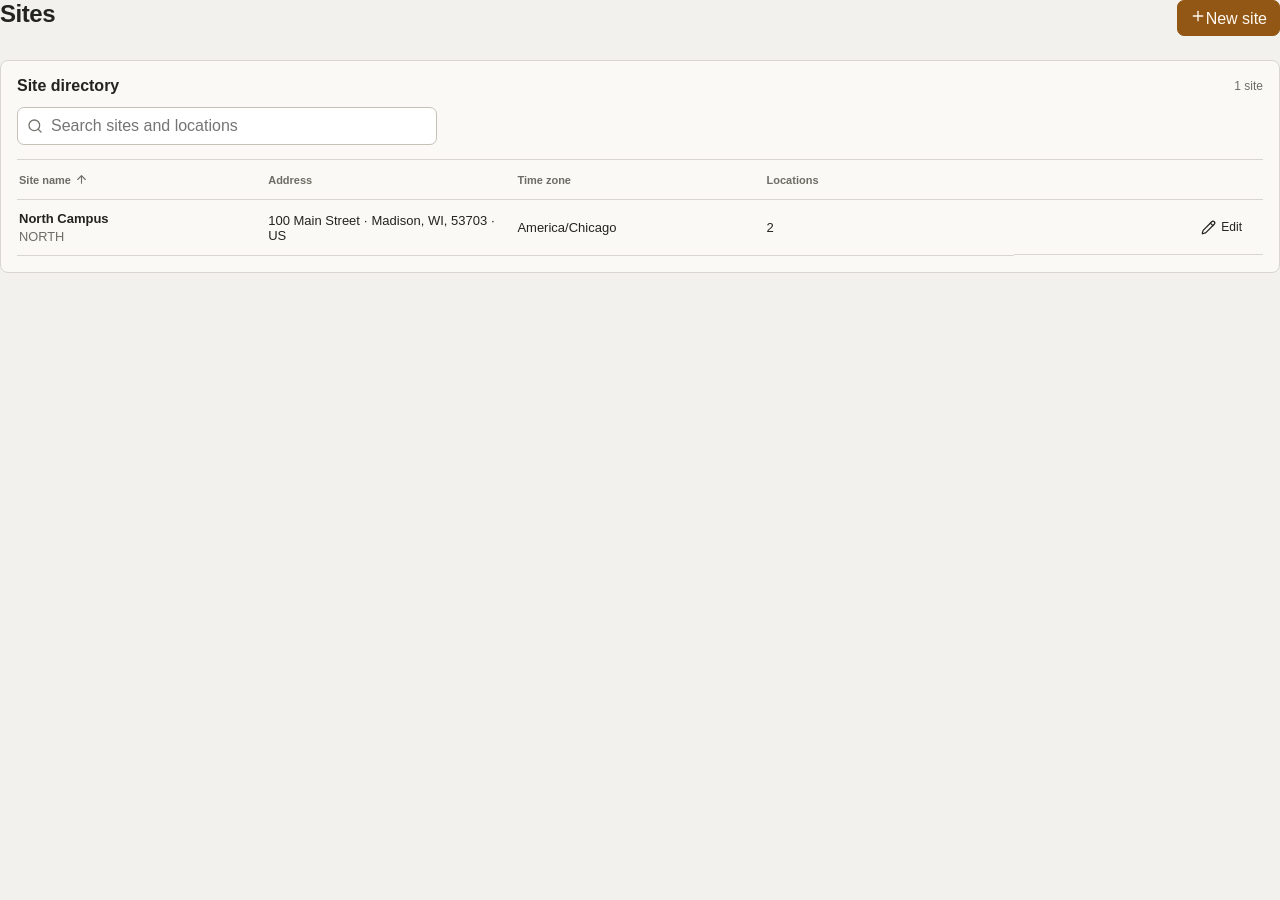
Test: Sites › shows the scoped site and nested location hierarchy
The image size is (1280, 900).
Click the button "North Campus" at (64, 218), box x1=19 y1=211 x2=109 y2=226
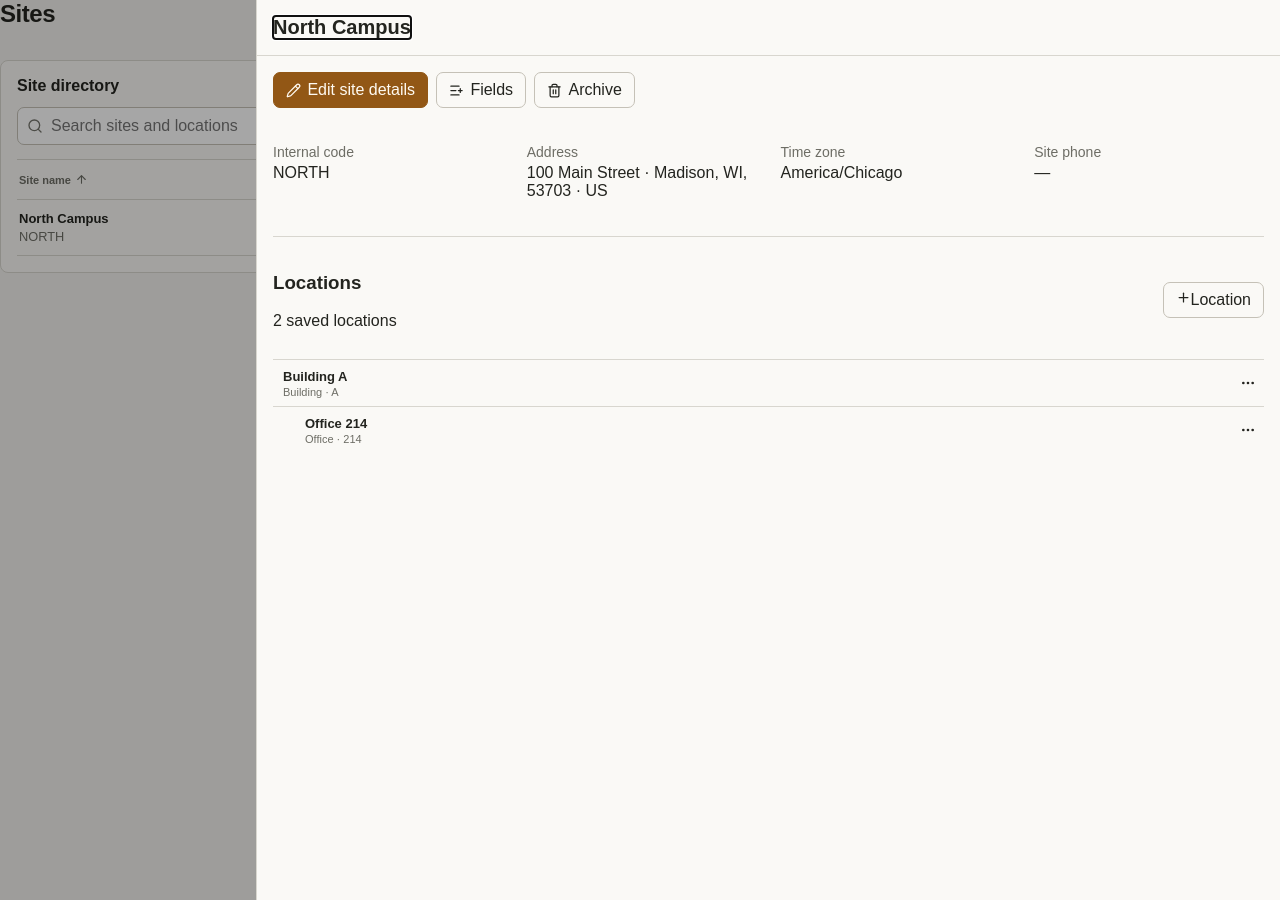
Now the text "100 Main Street · Madison, WI, 53703 · US" is shown, box x1=527 y1=164 x2=757 y2=200
Now the text "Building A" is shown, box x1=283 y1=369 x2=348 y2=384
Now the text "Office 214" is shown, box x1=305 y1=416 x2=367 y2=431
